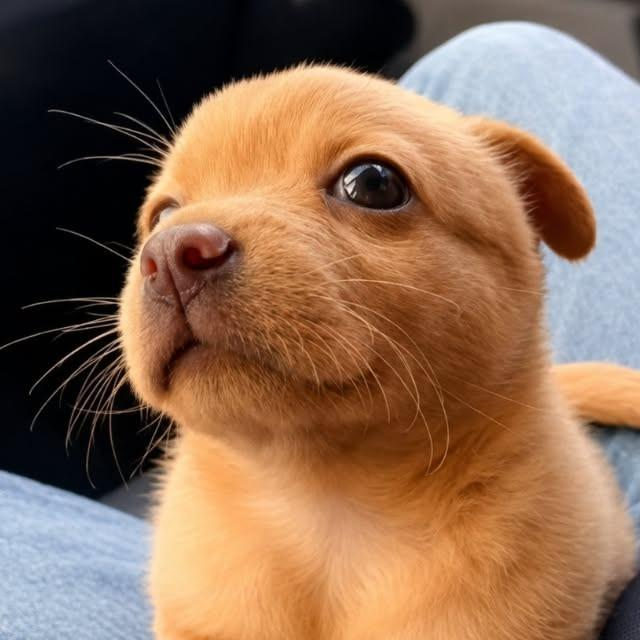puppy-dog: (118, 56, 640, 640)
